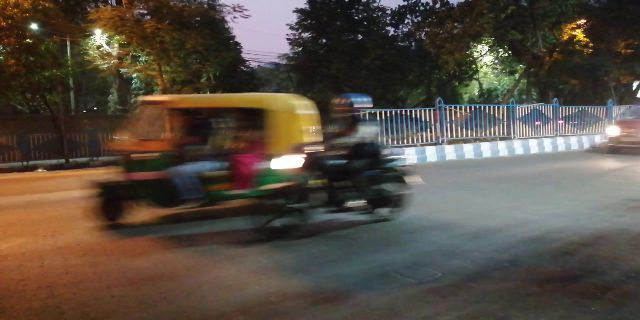Autorickshaw: (89, 91, 266, 207)
Motorbike: (274, 93, 423, 241)
